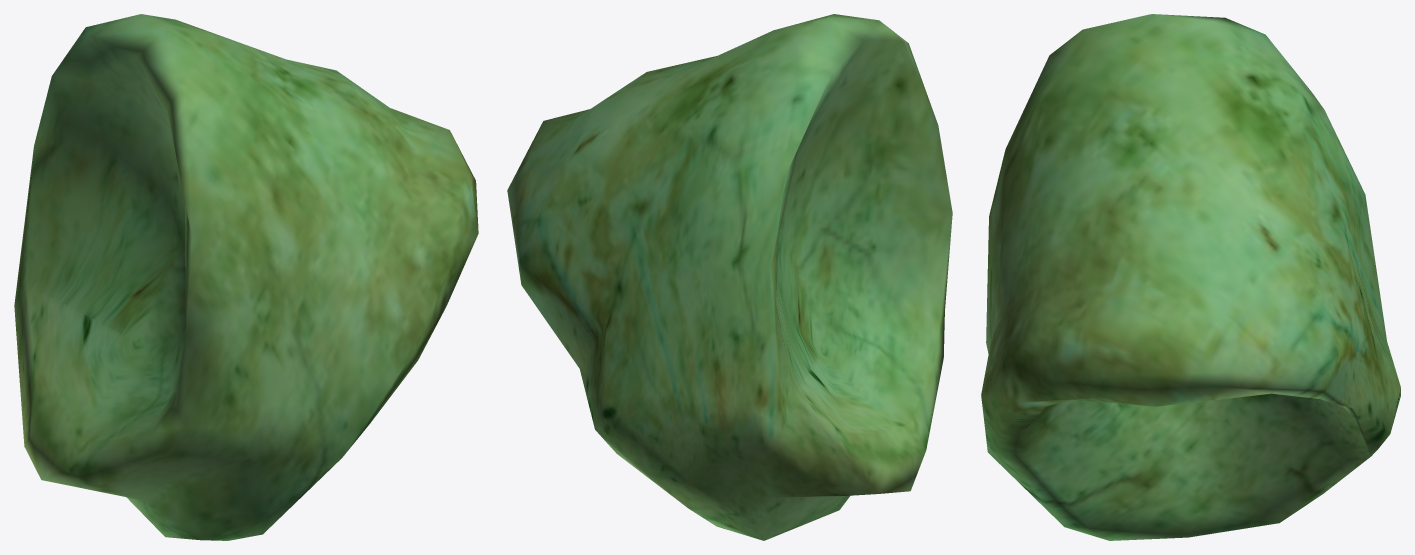
Rendered from Circoid_Laryngeal_Cartilage.glb.
3 views of the same model, side by side, from view 1: azimuth 30°, elevation 25°; view 2: azimuth 150°, elevation 25°; view 3: azimuth 270°, elevation 25° (orthographic).
Parts seen in each view (by area): view 1: Cricoid_Laryngeal_Cartilage; view 2: Cricoid_Laryngeal_Cartilage; view 3: Cricoid_Laryngeal_Cartilage.
Part boxes in pixels (x1,y1,x2,y2): Cricoid_Laryngeal_Cartilage: [14, 14, 478, 540]; Cricoid_Laryngeal_Cartilage: [507, 14, 952, 540]; Cricoid_Laryngeal_Cartilage: [981, 14, 1400, 540].
Bounding box in the file's own units: 0.0581 × 0.0697 × 0.0523.
Materials: 1 (1 with a texture image).
